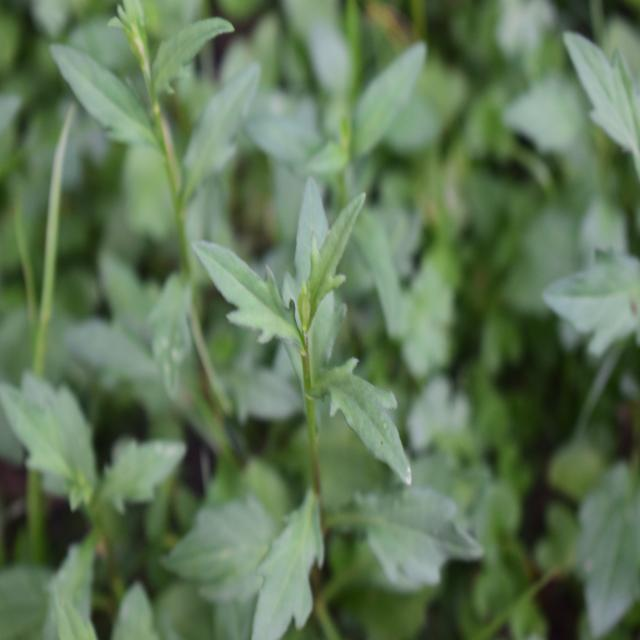Indian aster: (182, 200, 449, 607)
